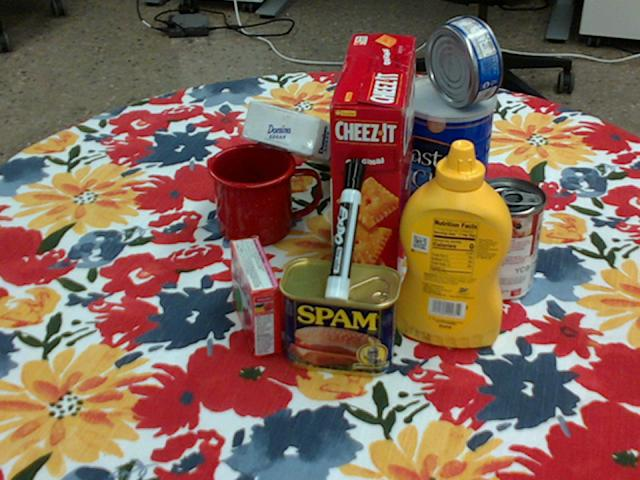cracker_box: (329, 34, 418, 311)
gelatin_box: (231, 235, 281, 356)
large_marker: (326, 156, 365, 300)
master_chef_can: (394, 74, 495, 233)
mug: (208, 143, 322, 247)
mustard_bottle: (396, 139, 513, 348)
potted_meat_can: (280, 258, 403, 376)
sugar_box: (243, 101, 387, 179)
tomato_soup_can: (466, 177, 546, 301)
tuna_fish_can: (424, 16, 502, 107)
